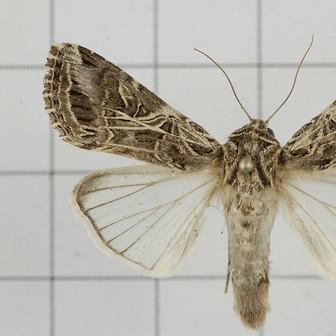Spodoptera litura: (41, 34, 336, 330)
